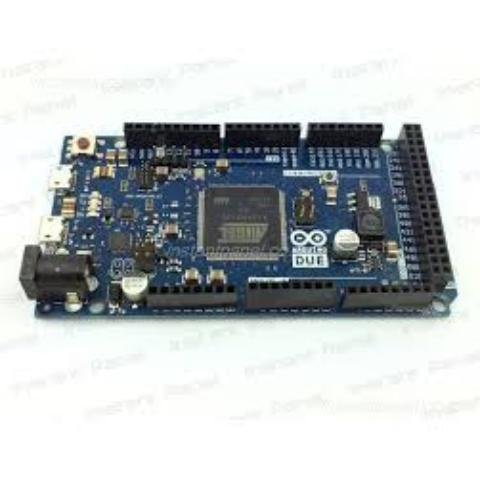Arduino-Due: (15, 109, 471, 331)
